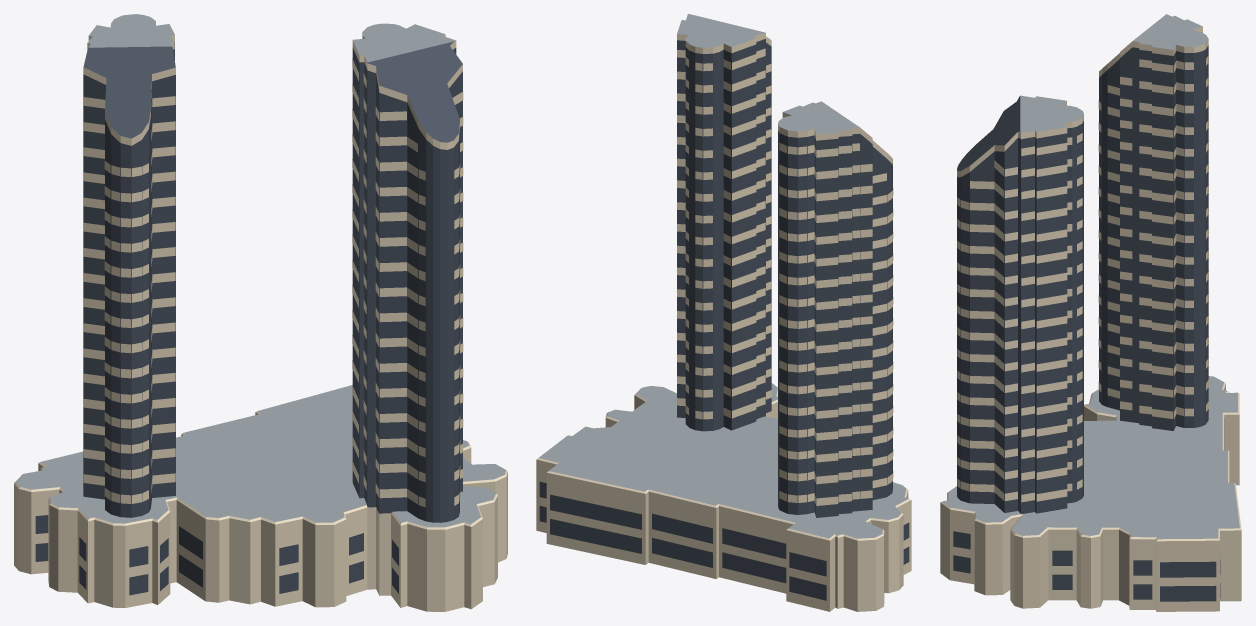
File: sd-harbor-club.glb
The picture shows the model from 3 angles, left to right: view 1: azimuth 30°, elevation 25°; view 2: azimuth 150°, elevation 25°; view 3: azimuth 270°, elevation 25°; orthographic projection. The views are drawn at different scales.
Parts seen in each view (by area): view 1: Harbor Club; view 2: Harbor Club; view 3: Harbor Club.
Boxes of the visible parts, x1,y1,x2,y2 form: Harbor Club: (14, 14, 507, 611); Harbor Club: (536, 14, 911, 611); Harbor Club: (940, 14, 1241, 611).
Size of the model in its own units: 103 by 132 by 79.48.
